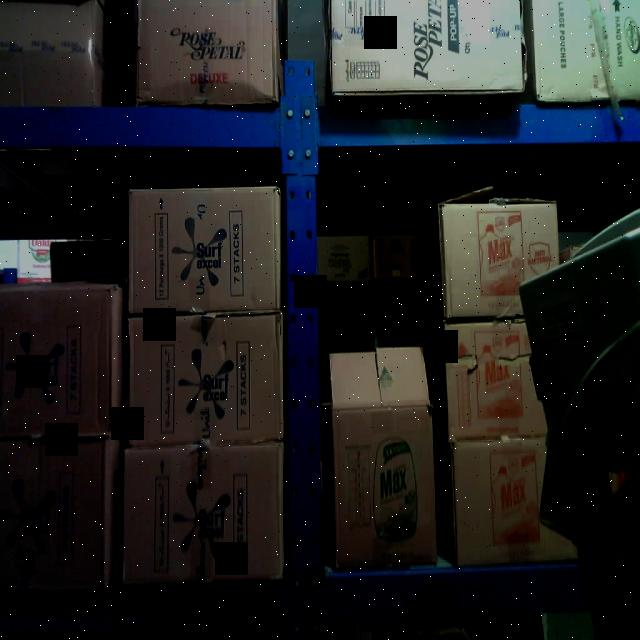box: (323, 353, 439, 569), (120, 444, 284, 584), (127, 316, 286, 440), (128, 186, 278, 314), (328, 0, 528, 96), (0, 286, 123, 434), (0, 438, 114, 585), (442, 196, 559, 324), (450, 442, 572, 561), (136, 0, 275, 102), (443, 321, 552, 440), (0, 0, 100, 106), (535, 0, 640, 100), (316, 234, 373, 282)
